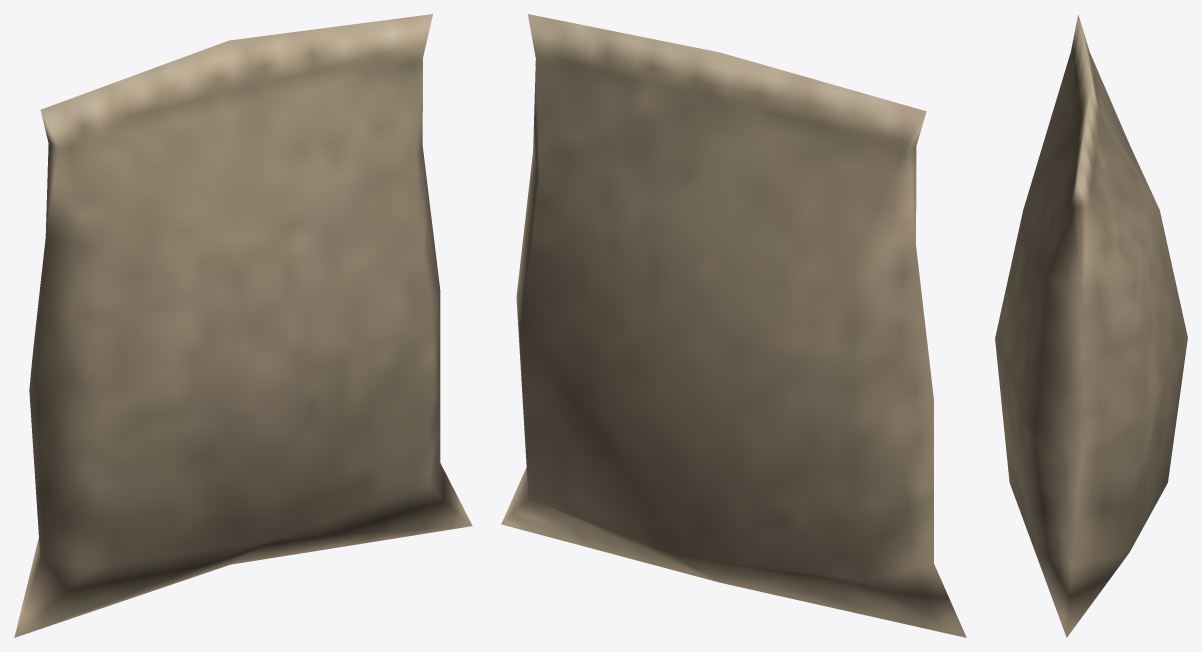
File: objects_un_t03gunnysack01.gltf
3 views of the same model, side by side, from view 1: azimuth 30°, elevation 25°; view 2: azimuth 150°, elevation 25°; view 3: azimuth 270°, elevation 25° (orthographic). The views are drawn at different scales.
Visible parts, largest first — view 1: objects_un_t03gunnysack01_mesh_shape:objects_un_t03farmtools; view 2: objects_un_t03gunnysack01_mesh_shape:objects_un_t03farmtools; view 3: objects_un_t03gunnysack01_mesh_shape:objects_un_t03farmtools.
Boxes of the visible parts, box(x1,y1,x2,y2) form: objects_un_t03gunnysack01_mesh_shape:objects_un_t03farmtools: box(14, 14, 472, 637); objects_un_t03gunnysack01_mesh_shape:objects_un_t03farmtools: box(501, 14, 966, 637); objects_un_t03gunnysack01_mesh_shape:objects_un_t03farmtools: box(995, 14, 1187, 637).
Size of what is drawn, in the model's own units: 0.8107 by 0.8974 by 0.3423.
Materials: 1 (1 with a texture image).
